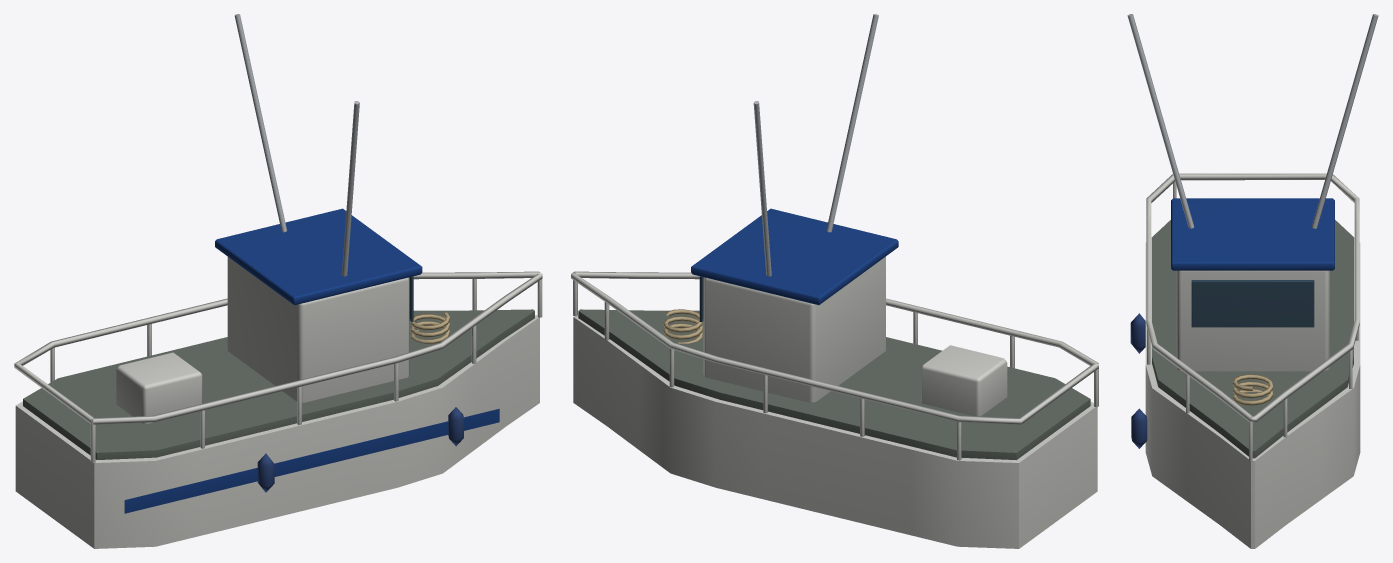
The model's file is FishingBoatMIA.fbx.
The picture shows the model from 3 angles, left to right: view 1: azimuth 30°, elevation 25°; view 2: azimuth 150°, elevation 25°; view 3: azimuth 270°, elevation 25°; orthographic projection. The views are drawn at different scales.
Parts seen in each view (by area): view 1: FishingBoatMIA; view 2: FishingBoatMIA; view 3: FishingBoatMIA.
Boxes of the visible parts, left/top/right/bottom form: FishingBoatMIA: left=14, top=14, right=542, bottom=548; FishingBoatMIA: left=571, top=14, right=1098, bottom=548; FishingBoatMIA: left=1127, top=14, right=1378, bottom=548.
Size of the model in its own units: 5.65 by 4.46 by 2.45.
